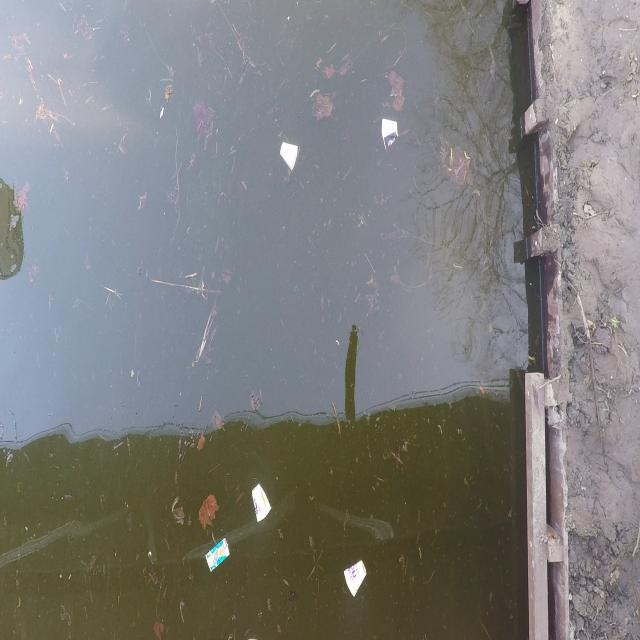Non plastique: (339, 556, 370, 603), (202, 536, 231, 579), (248, 481, 273, 524), (276, 136, 302, 173), (380, 115, 401, 152)
